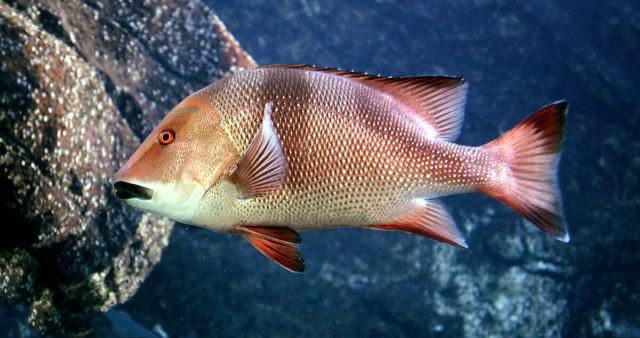Mulut: (90, 158, 174, 224)
Sirip Anal: (348, 188, 477, 260)
Sirip Dada: (220, 92, 298, 206)
Sirip Ekor: (480, 92, 590, 253)
Sirip Perut: (228, 216, 324, 288)
Sirip Punggung: (255, 53, 477, 150)
